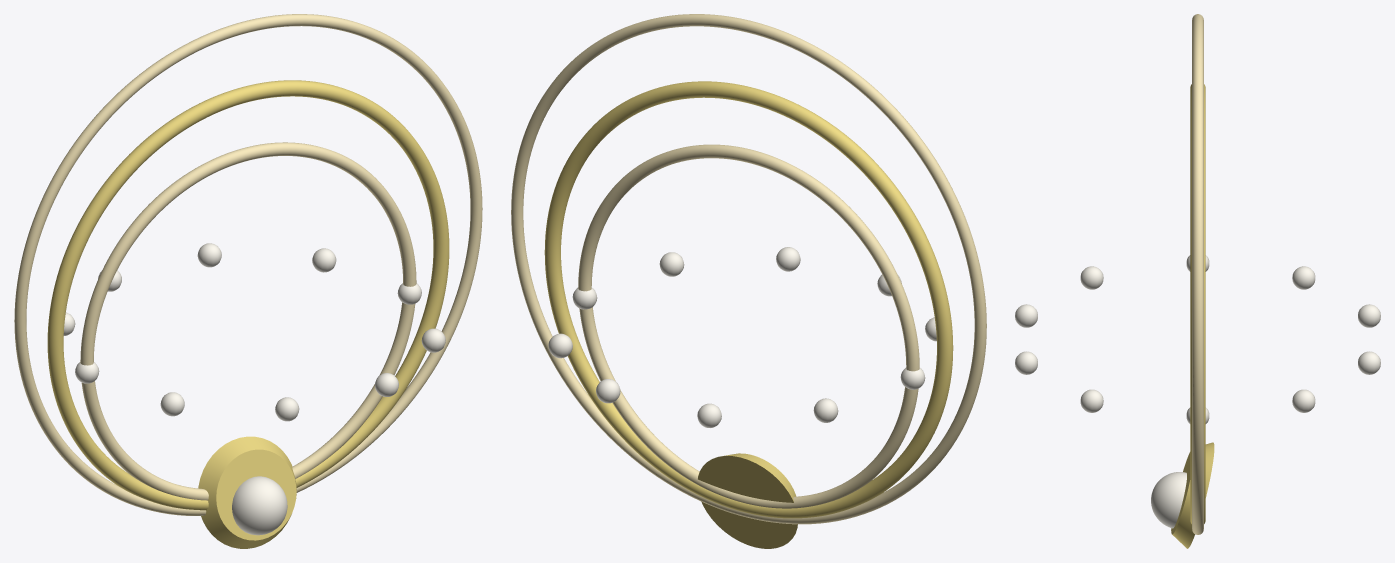
File: gauri-bridal-layered-set.glb
3 views of the same model, side by side, from view 1: azimuth 30°, elevation 25°; view 2: azimuth 150°, elevation 25°; view 3: azimuth 270°, elevation 25° (orthographic). The views are drawn at different scales.
Visible parts, largest first — view 1: gauri-bridal-layered-set; view 2: gauri-bridal-layered-set; view 3: gauri-bridal-layered-set.
Boxes of the visible parts, bbox=[...] form: gauri-bridal-layered-set: bbox=[14, 14, 482, 548]; gauri-bridal-layered-set: bbox=[511, 14, 986, 548]; gauri-bridal-layered-set: bbox=[1015, 14, 1380, 548].
Size of the model in its own units: 3.18 by 3.4 by 2.23.
